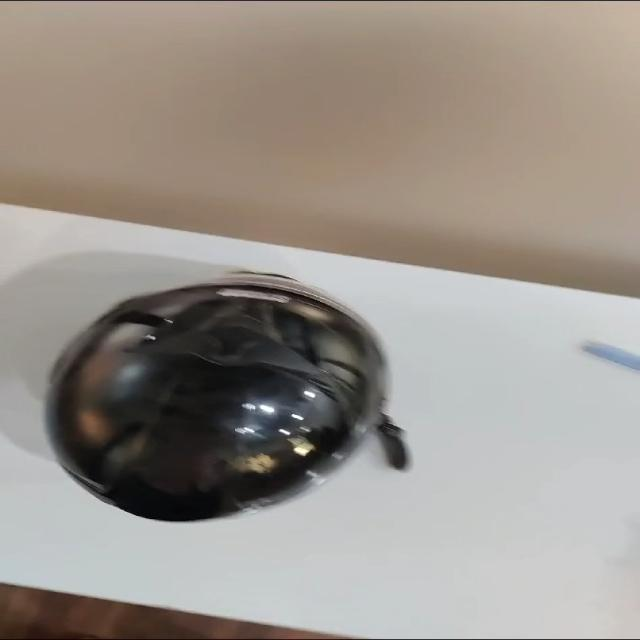helmet: (44, 268, 376, 525)
